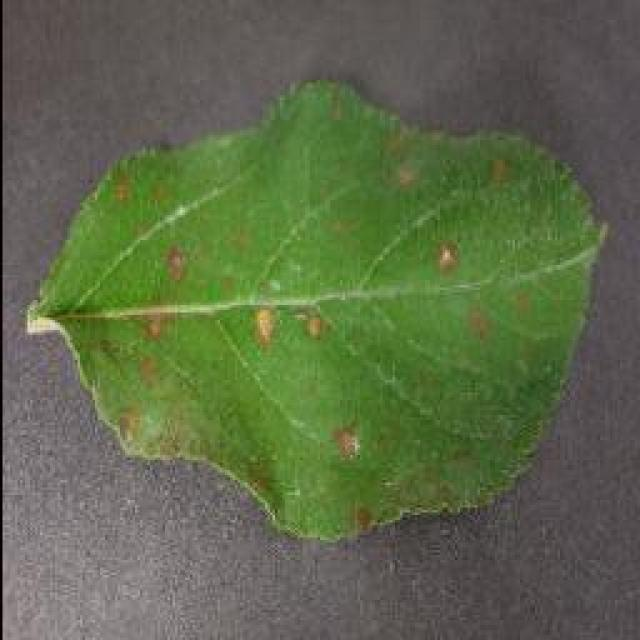apple healthy: (25, 75, 607, 543)
